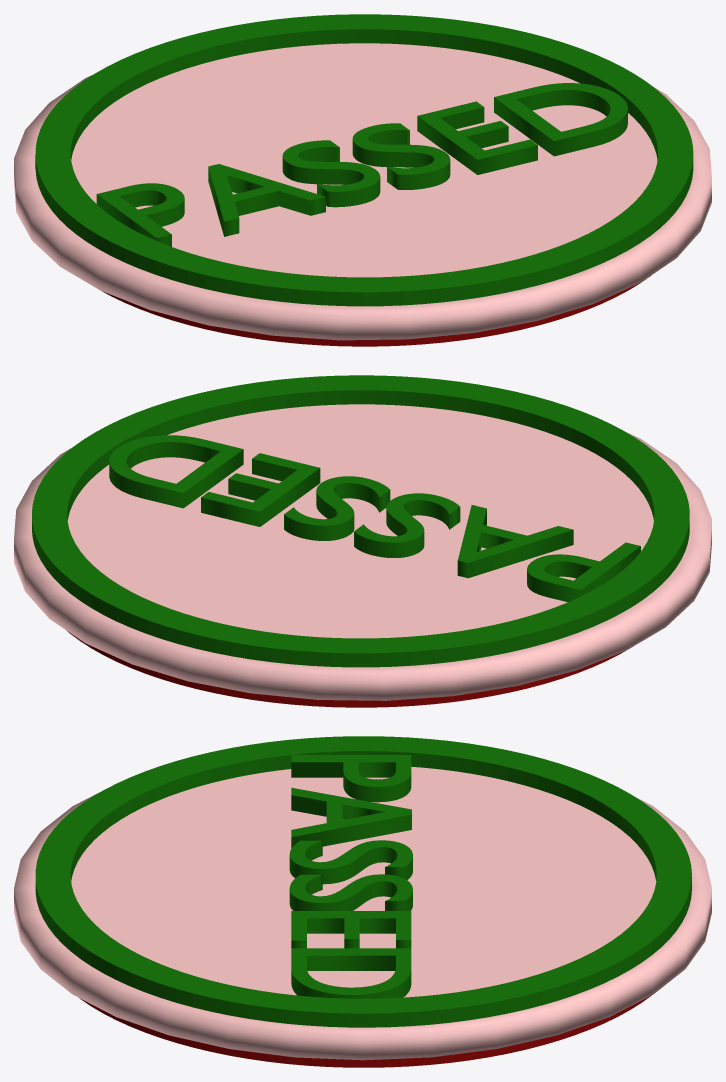
3 renders of one model, top to bottom at view 1: azimuth 30°, elevation 25°; view 2: azimuth 150°, elevation 25°; view 3: azimuth 270°, elevation 25°, orthographic.
Visible parts, largest first — view 1: Cylinder, Cylinder.001, Cube, FAILED, FAILED.002, Cube.002, Cube.001; view 2: Cylinder, Cylinder.001, Cube, FAILED, FAILED.002, Cube.002, Cube.001; view 3: Cylinder, Cylinder.001, Cube, FAILED, FAILED.002, Cube.002, Cube.001.
Part boxes in pixels (x1,y1,x2,y2): Cylinder: (14,43,711,340); Cylinder.001: (14,92,711,340); Cube: (35,14,693,306); FAILED: (96,83,627,246); FAILED.002: (96,90,626,245); Cube.002: (43,14,685,296); Cube.001: (102,276,650,346); Cylinder: (14,415,711,700); Cylinder.001: (14,404,711,700); Cube: (32,375,689,667); FAILED: (109,435,640,602); FAILED.002: (109,436,639,598); Cube.002: (32,375,689,652); Cube.001: (66,630,624,707); Cylinder: (14,766,711,1060); Cylinder.001: (14,769,711,1059); Cube: (35,736,691,1027); FAILED: (289,755,412,998); FAILED.002: (289,755,412,998); Cube.002: (49,736,691,1027); Cube.001: (79,995,651,1067).
Size of the model in its own units: 396 by 39.74 by 396.
